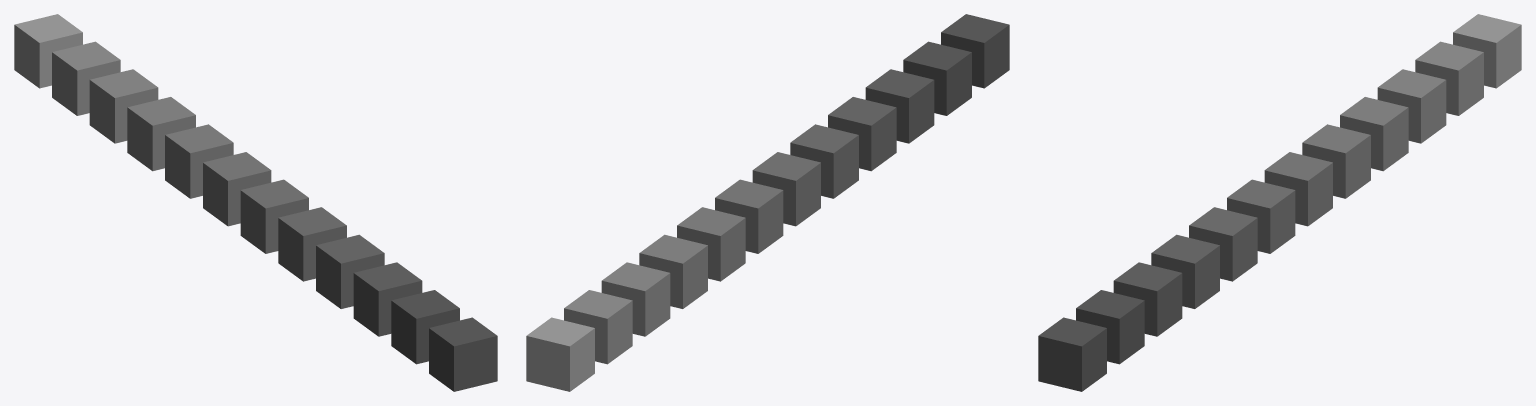
Rendered from personaFinishesTest2.glb.
3 views of the same model, side by side, from view 1: azimuth 30°, elevation 25°; view 2: azimuth 150°, elevation 25°; view 3: azimuth 330°, elevation 25° (orthographic).
Visible parts, largest first — view 1: Cube.001, Cube.002, Cube.010, Cube.005, Cube.006, Cube.003, Cube.004, Cube.008, Cube.011, Cube.007, Cube.009, Cube.012; view 2: Cube.012, Cube.010, Cube.002, Cube.007, Cube.006, Cube.004, Cube.008, Cube.009, Cube.011, Cube.003, Cube.005, Cube.001; view 3: Cube.001, Cube.002, Cube.010, Cube.005, Cube.006, Cube.003, Cube.004, Cube.008, Cube.011, Cube.007, Cube.009, Cube.012.
Boxes of the visible parts, x1,y1,x2,y2 form: Cube.001: (429, 317, 497, 391); Cube.002: (353, 262, 422, 336); Cube.010: (89, 69, 158, 143); Cube.005: (240, 179, 308, 253); Cube.006: (391, 290, 459, 364); Cube.003: (316, 234, 384, 308); Cube.004: (278, 207, 346, 281); Cube.008: (165, 124, 233, 198); Cube.011: (52, 41, 120, 115); Cube.007: (203, 152, 271, 226); Cube.009: (127, 97, 195, 171); Cube.012: (14, 14, 82, 88); Cube.012: (526, 317, 594, 391); Cube.010: (601, 262, 670, 336); Cube.002: (865, 69, 934, 143); Cube.007: (715, 179, 783, 253); Cube.006: (903, 41, 971, 115); Cube.004: (790, 124, 858, 198); Cube.008: (677, 207, 745, 281); Cube.009: (639, 234, 707, 308); Cube.011: (564, 290, 632, 364); Cube.003: (828, 97, 896, 171); Cube.005: (752, 152, 820, 226); Cube.001: (941, 14, 1009, 88); Cube.001: (1038, 317, 1106, 391); Cube.002: (1113, 262, 1182, 336); Cube.010: (1377, 69, 1446, 143); Cube.005: (1227, 179, 1295, 253); Cube.006: (1076, 290, 1144, 364); Cube.003: (1151, 234, 1219, 308); Cube.004: (1189, 207, 1257, 281); Cube.008: (1302, 124, 1370, 198); Cube.011: (1415, 41, 1483, 115); Cube.007: (1264, 152, 1332, 226); Cube.009: (1340, 97, 1408, 171); Cube.012: (1453, 14, 1521, 88).
Bounding box in the file's own units: 0.5 × 0.5 × 8.75.
12 materials, 1 textured.
